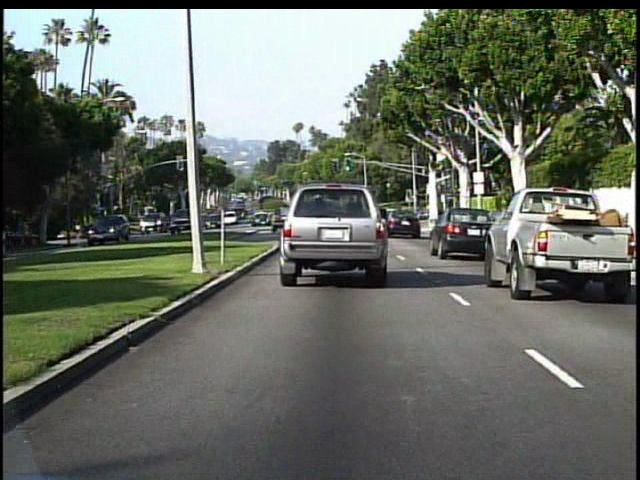person: (75, 223, 82, 241)
